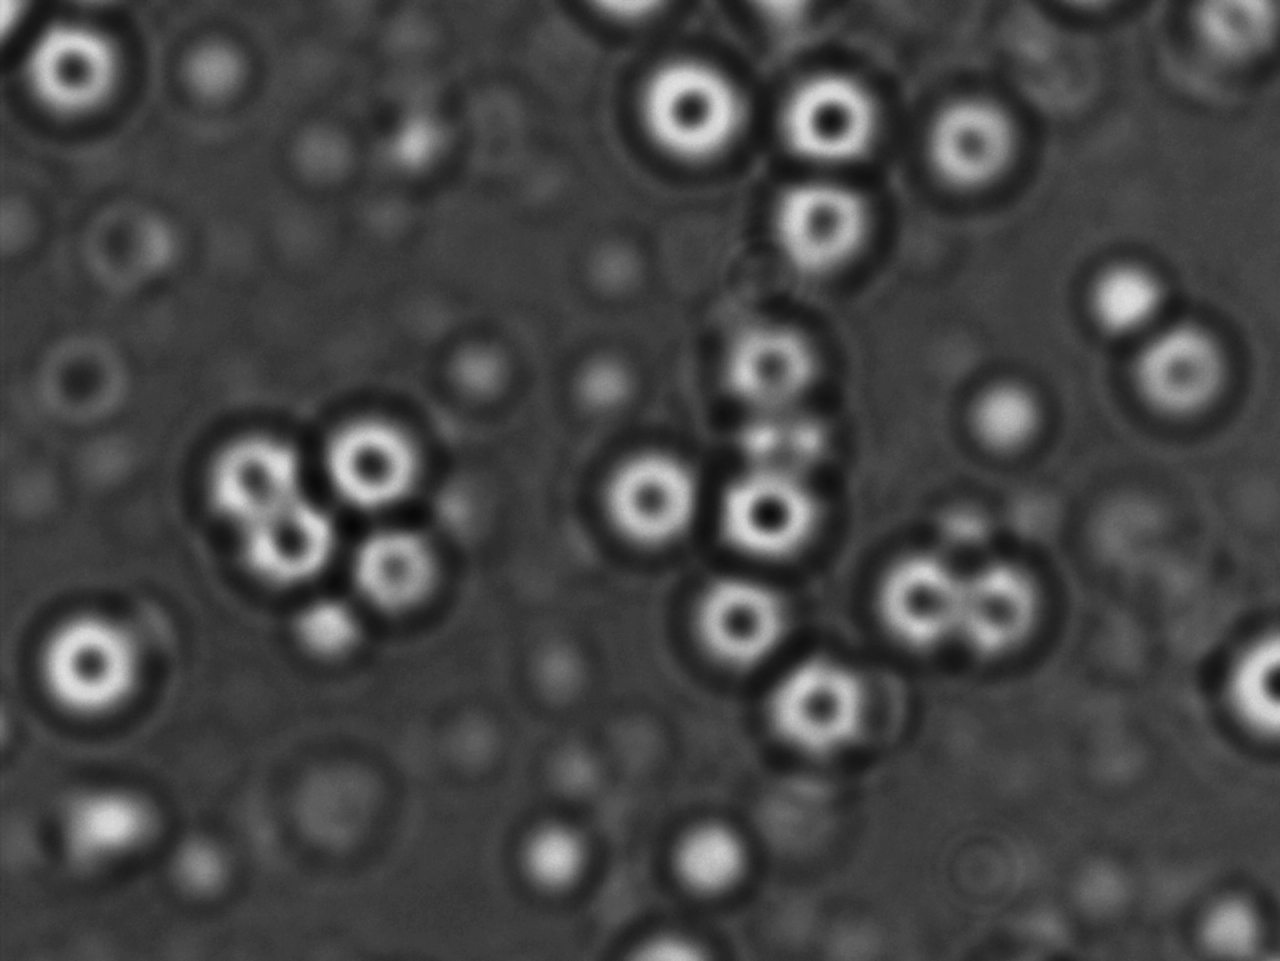depth:32: (17, 598, 169, 739), (190, 413, 313, 535), (15, 12, 139, 132), (310, 396, 436, 512), (714, 456, 833, 573), (912, 92, 1037, 202), (638, 58, 757, 173), (596, 440, 711, 556), (678, 560, 795, 671), (226, 497, 341, 607), (769, 170, 879, 279), (757, 653, 876, 752), (779, 70, 891, 175)
